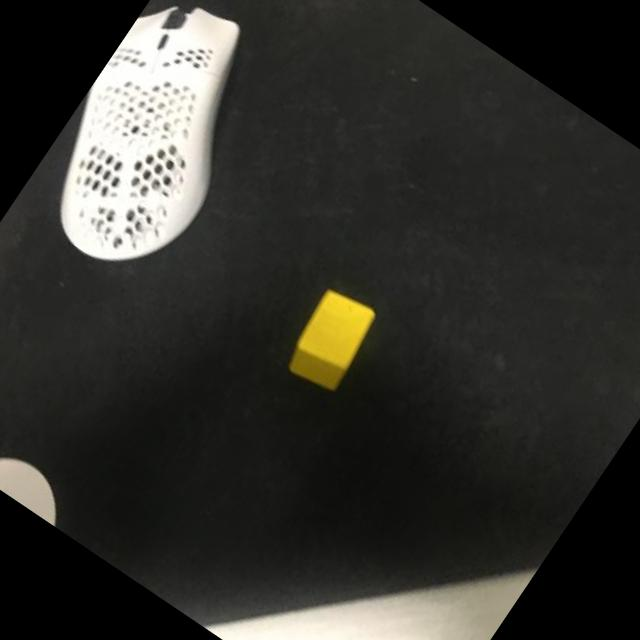yellow: (276, 282, 385, 399)
